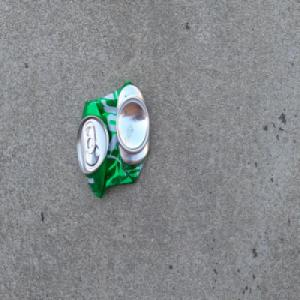SodaCan: (75, 79, 150, 199)
